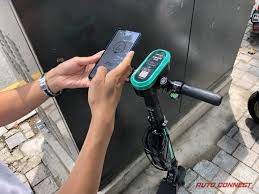kick_neck: (147, 99, 177, 167)
